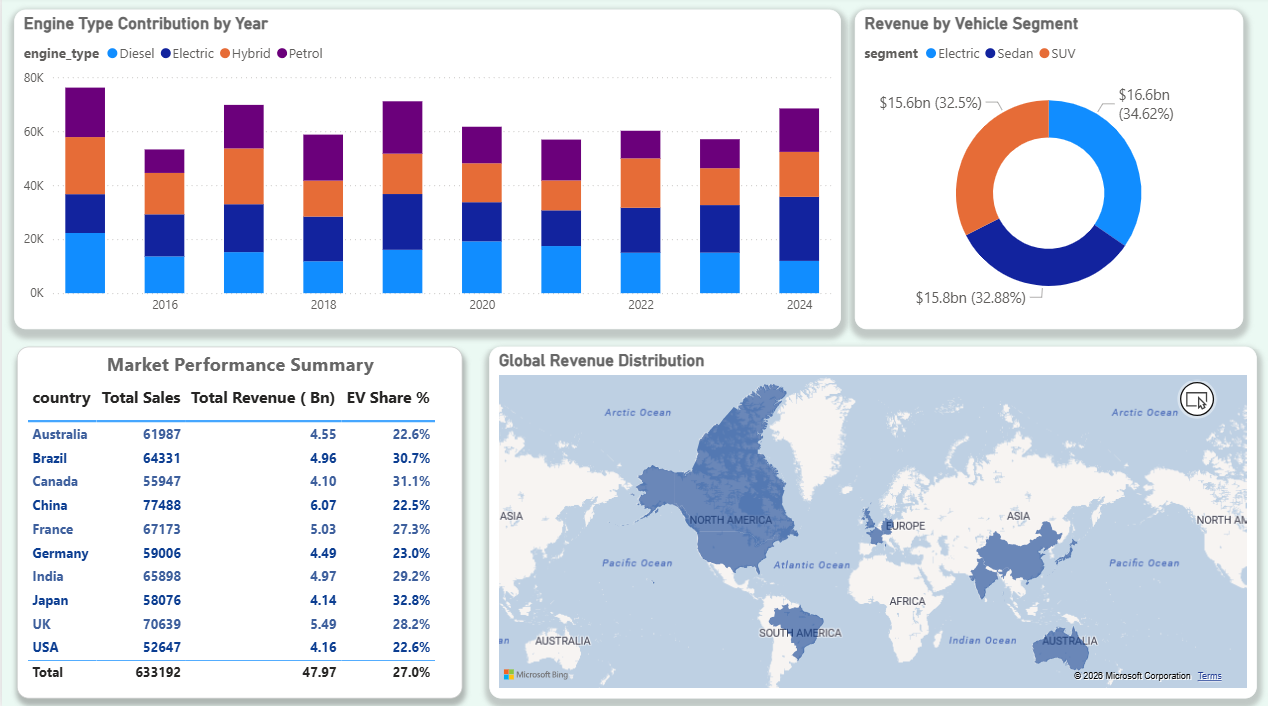

The dashboard page shown, as its layout file describes it:
{"tool":"powerbi","page":{"name":"Market Performance","canvas":[1280,720],"ordinal":1},"visuals":[{"type":"donutChart","title":"Revenue by Vehicle Segment","fields":{"Category":["bmw_analytics bmw_sales.segment"],"Y":["bmw_analytics bmw_sales.Total Revenue"]},"box":[861.1,13.7,392.3,322.6],"z":0},{"type":"tableEx","title":"Market Performance Summary","fields":{"Values":["bmw_analytics bmw_sales.country","bmw_analytics bmw_sales.Total Sales","bmw_analytics bmw_sales.Total Revenue ( Bn)","bmw_analytics bmw_sales.EV Share %"]},"box":[15,354,449.7,355.4],"z":1000},{"type":"columnChart","title":"Engine Type Contribution by Year","fields":{"Category":["bmw_analytics bmw_sales.year"],"Series":["bmw_analytics bmw_sales.engine_type"],"Y":["bmw_analytics bmw_sales.Total Sales"]},"box":[12.3,13.7,835.1,322.6],"z":2000},{"type":"filledMap","title":"Global Revenue Distribution","fields":{"Category":["bmw_analytics bmw_sales.country"]},"box":[492.1,354,775,355.4],"z":3000}]}

Visuals, with their boxes in screenshot pixels (x1, y1, x2, y2), scaled from the page's 1280x720 canvas onto the 1268x706 screenshot:
"Revenue by Vehicle Segment" donutChart: crop(853, 13, 1242, 330)
"Market Performance Summary" tableEx: crop(15, 347, 460, 696)
"Engine Type Contribution by Year" columnChart: crop(12, 13, 839, 330)
"Global Revenue Distribution" filledMap: crop(487, 347, 1255, 696)
